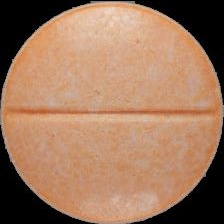55700-315: (0, 0, 224, 224)
